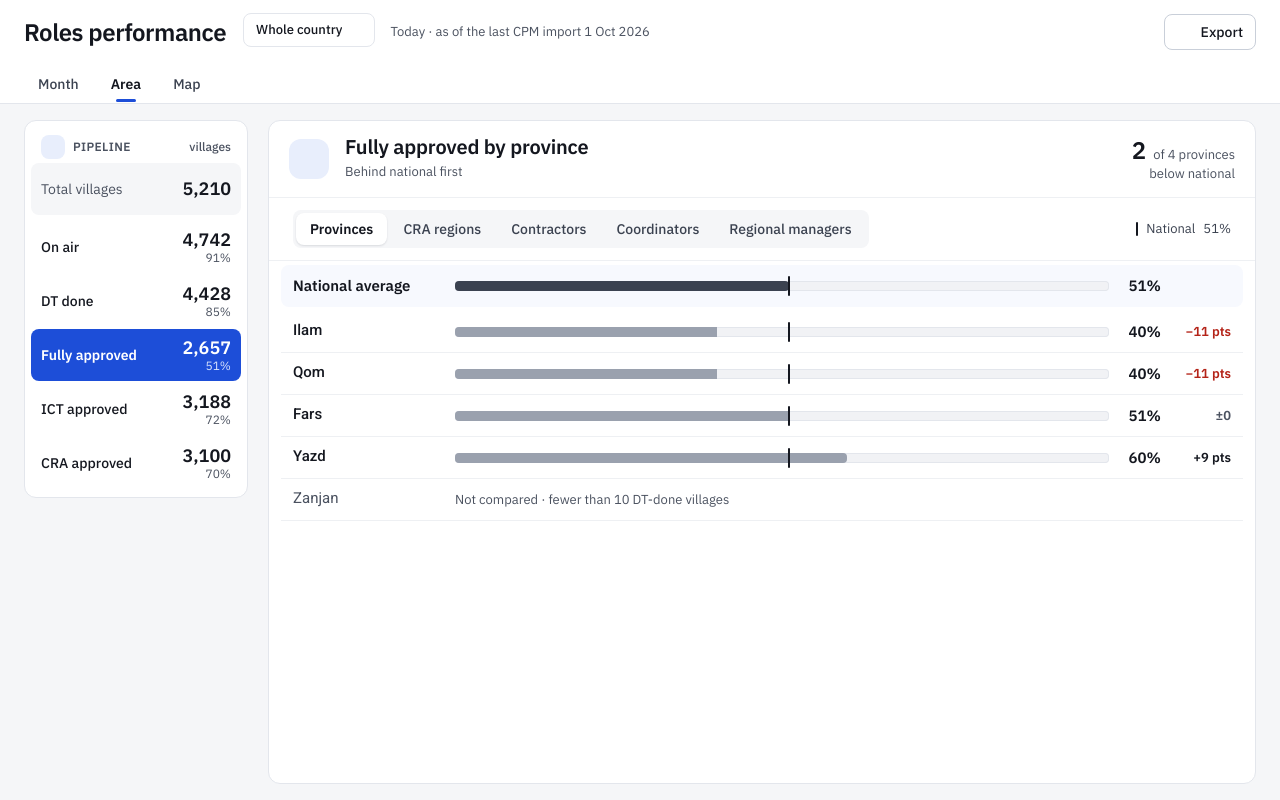
Test: Area › changes the ranking with the measure, without a refetch
The width and height of the screenshot is (1280, 800).
Check: the heading "Fully approved by province" is shown, box [345,135,588,159]
Click the button "ICT approved 3,188 72%".
click(136, 409)  # box [31,383,241,435]
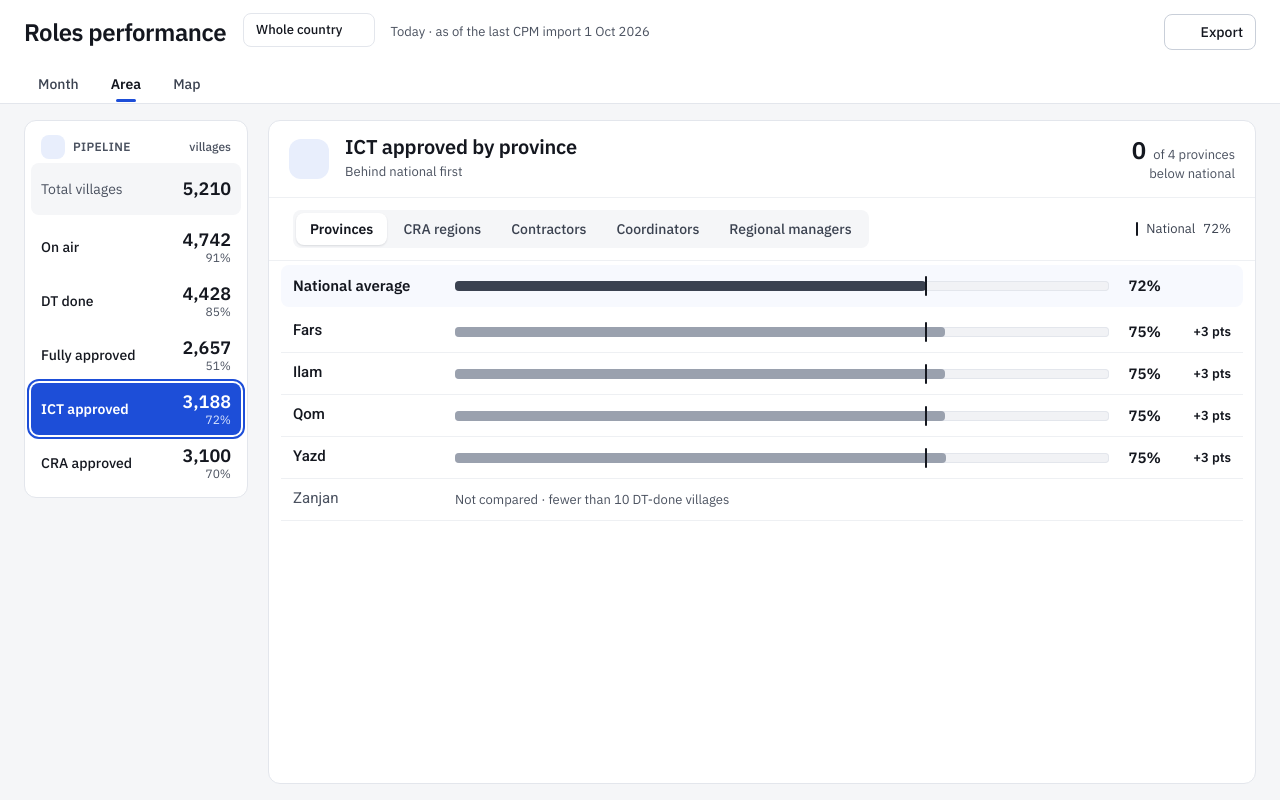
Check: the heading "ICT approved by province" is shown, box [345,135,577,159]
